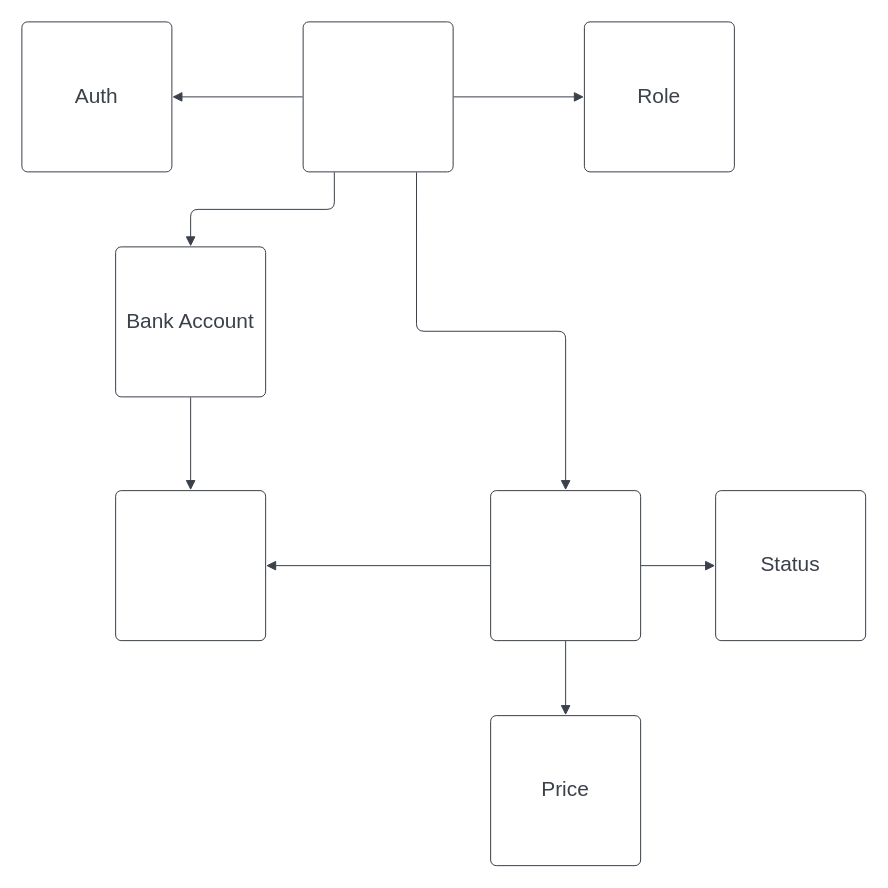
Some shapes in this 888 by 888 pixel diagram are drawn without their labels. Here are the shapes that lost their labels. From the top down, the centre of each, then its label:
At pixel 377 96: "User".
At pixel 190 565: "Audit Log".
At pixel 565 565: "Task".
